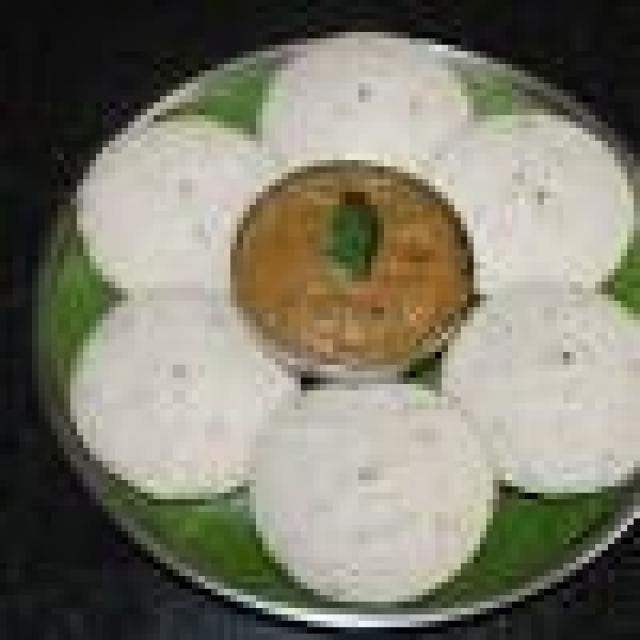idli: (224, 358, 493, 596), (32, 269, 307, 499), (236, 26, 474, 230), (391, 96, 634, 294), (64, 115, 301, 314), (422, 269, 634, 480)
